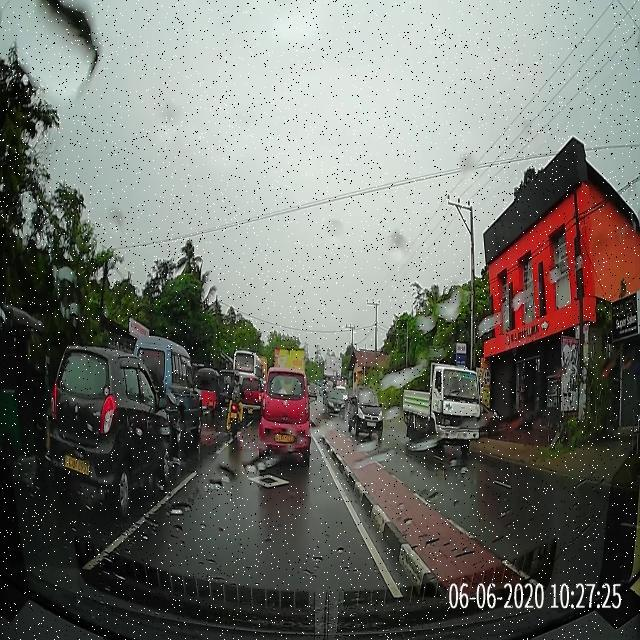diamond: (169, 455, 354, 504)
